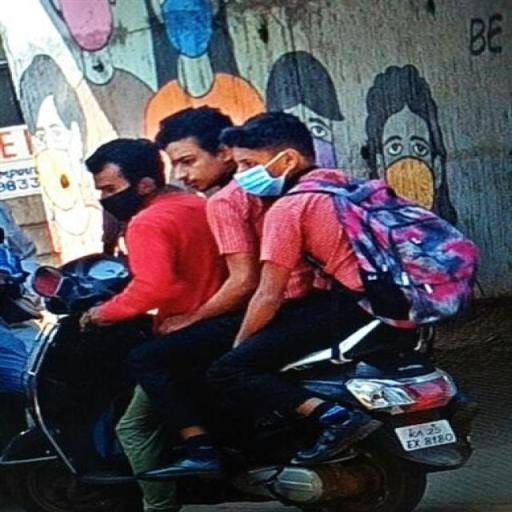tripple riding: (70, 100, 487, 336)
